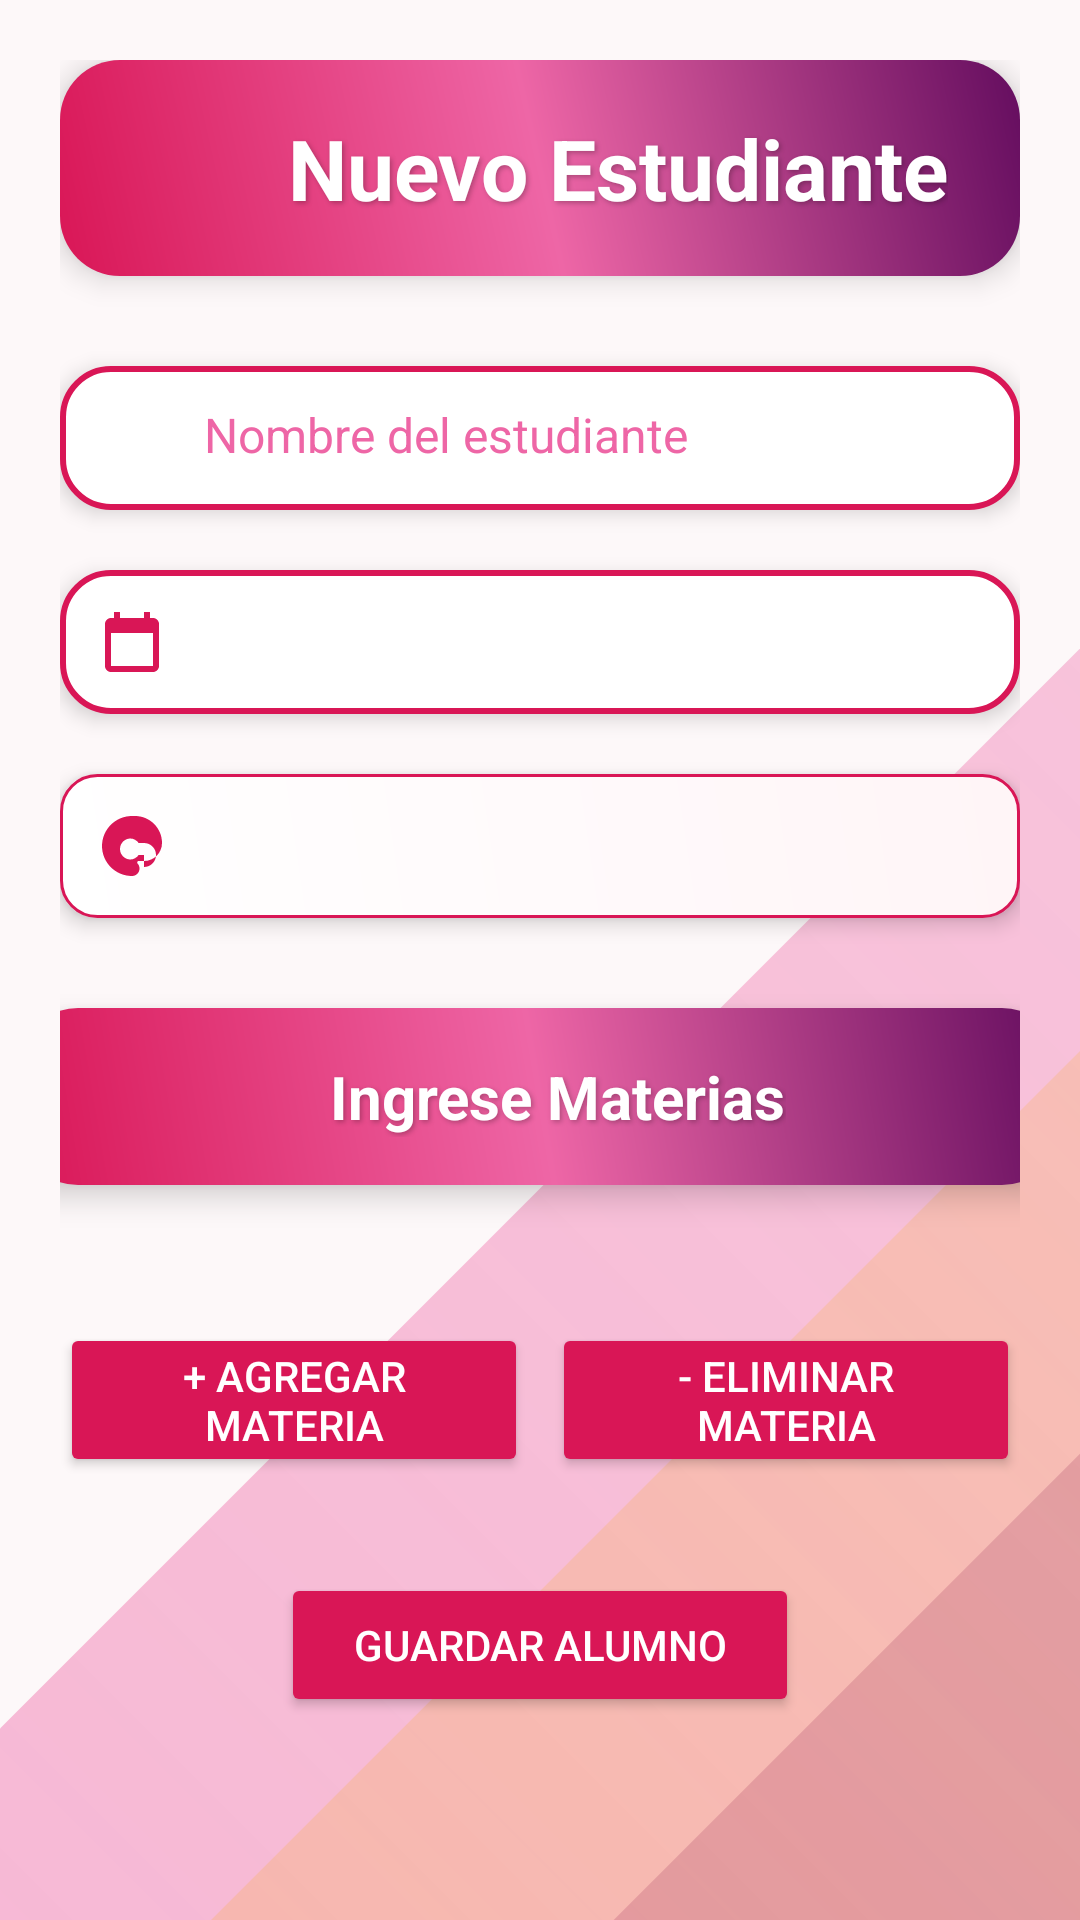

Point at icon controls on the screen. Image size 1080px×1920px, points as point (x, y).
calendar: point (132, 642)
